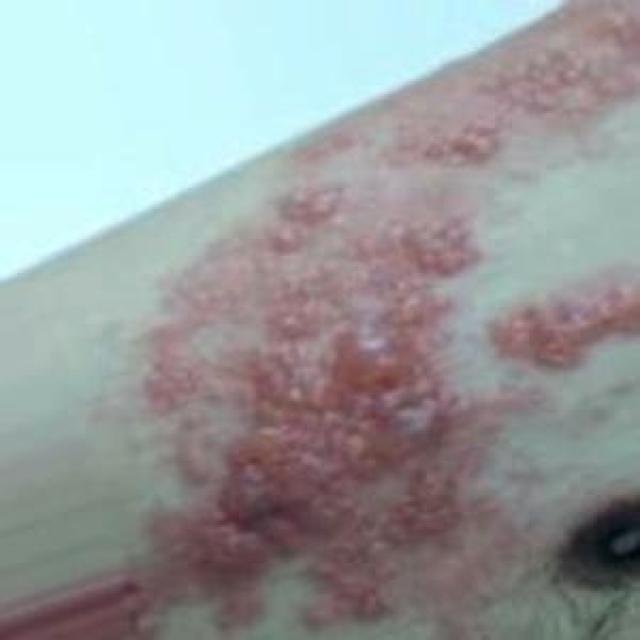Shingles: (147, 185, 484, 619), (426, 45, 590, 169), (487, 280, 640, 367)
